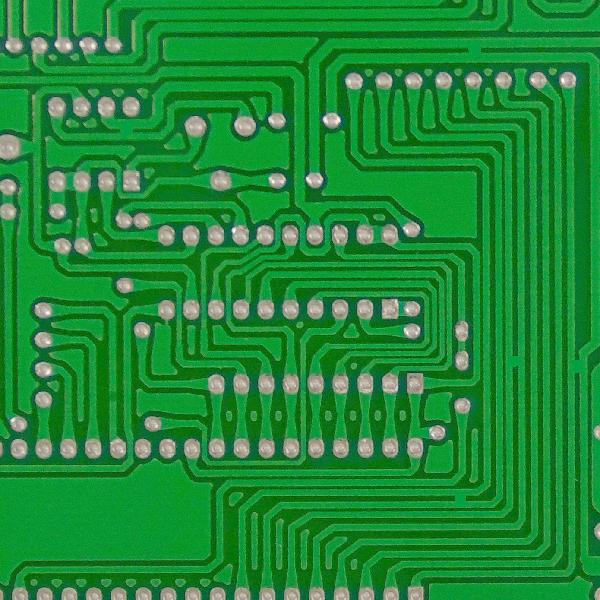short: (458, 36, 491, 64), (445, 487, 477, 511), (113, 117, 138, 143), (503, 348, 527, 373), (566, 356, 593, 377)
